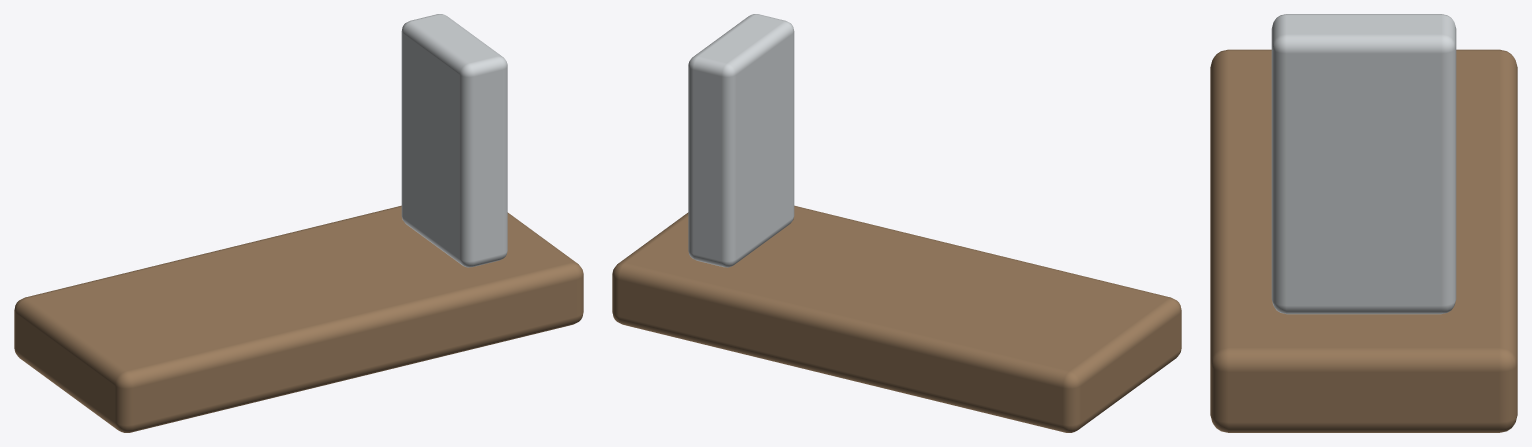
File: geotechnical-soil-testing-laboratory-grooving-tool-bc57fa6f__39058.glb
3 renders of one model, left to right at view 1: azimuth 30°, elevation 25°; view 2: azimuth 150°, elevation 25°; view 3: azimuth 270°, elevation 25°, orthographic. The views are drawn at different scales.
Parts seen in each view (by area): view 1: grooving-tool; view 2: grooving-tool; view 3: grooving-tool.
Part boxes in pixels (x1=…): grooving-tool: x1=14, y1=14, x2=583, y2=432; grooving-tool: x1=612, y1=14, x2=1181, y2=432; grooving-tool: x1=1210, y1=14, x2=1517, y2=432.
Size of the model in its own units: 0.12 by 0.065 by 0.05.
